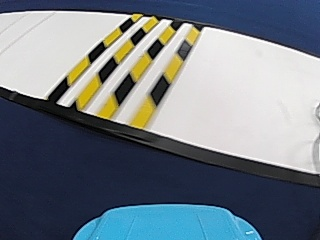bump: (56, 15, 203, 108)
